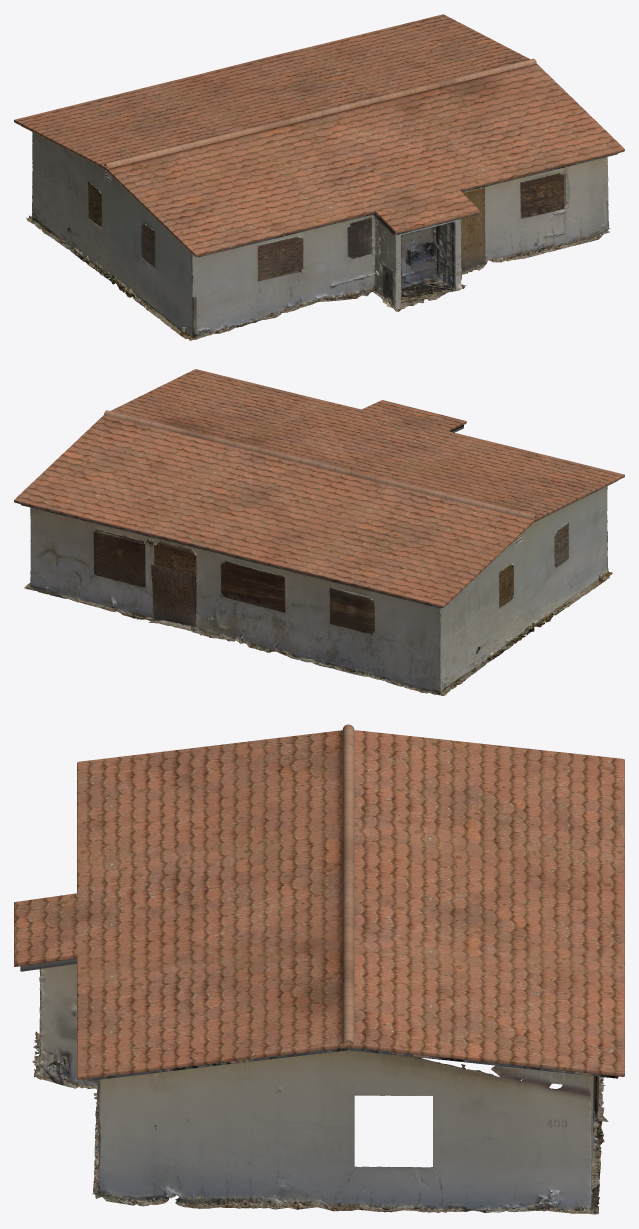
The model's file is MOD_houseA.fbx.
The picture shows the model from 3 angles, top to bottom: view 1: azimuth 30°, elevation 25°; view 2: azimuth 150°, elevation 25°; view 3: azimuth 270°, elevation 25°; orthographic projection. The views are drawn at different scales.
Parts seen in each view (by area): view 1: MOD_HouseA_Roof, MOD_houseA; view 2: MOD_HouseA_Roof, MOD_houseA; view 3: MOD_HouseA_Roof, MOD_houseA.
Part boxes in pixels (left/top/right/bottom): MOD_HouseA_Roof: left=14, top=14, right=624, bottom=257; MOD_houseA: left=26, top=132, right=609, bottom=340; MOD_HouseA_Roof: left=14, top=369, right=624, bottom=608; MOD_houseA: left=24, top=486, right=612, bottom=695; MOD_HouseA_Roof: left=14, top=724, right=624, bottom=1081; MOD_houseA: left=32, top=964, right=608, bottom=1214.
Bounding box in the file's own units: 1202 × 324 × 982.
